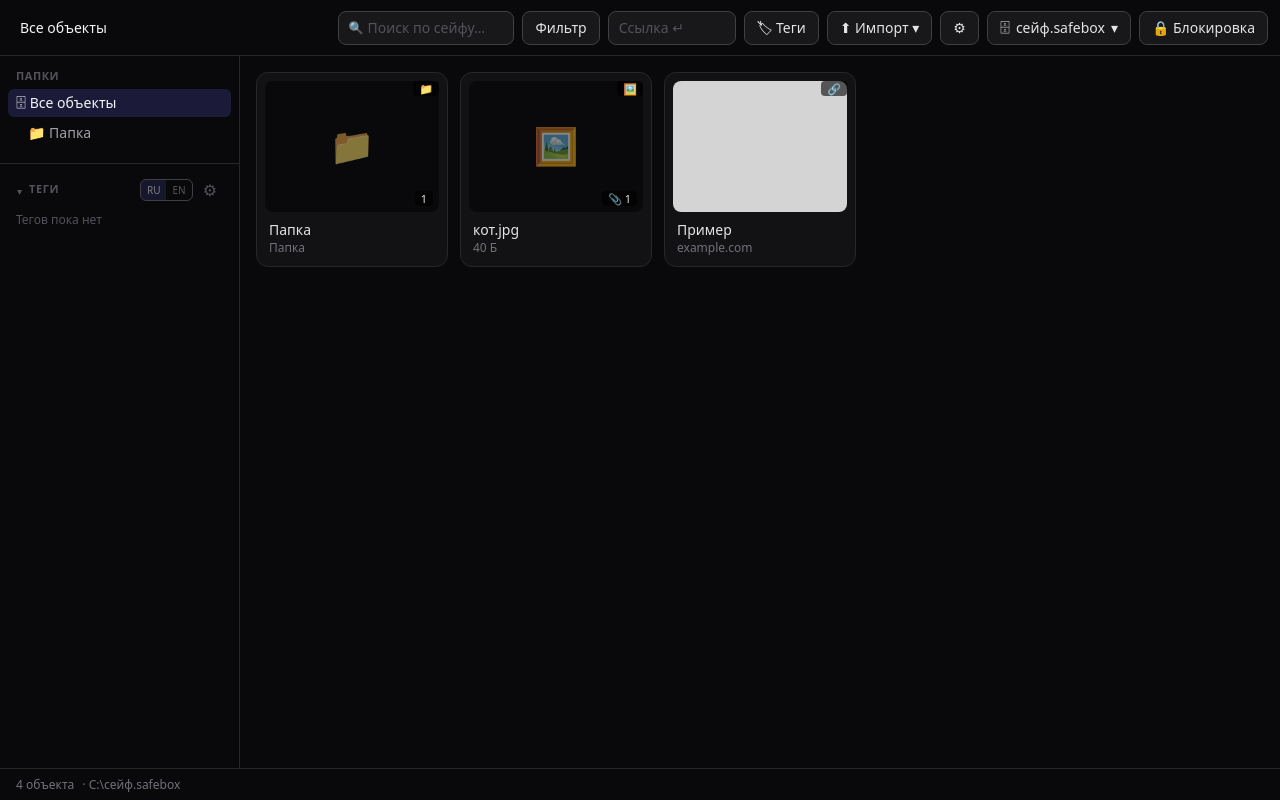
Test: поле «Ссылка» (UF-20) › не ссылка - «Это не ссылка», текст остаётся для правки, запроса нет
The image size is (1280, 800).
Check: the text "кот.jpg" is shown, box top-left (473, 220), bottom-right (519, 240)
In the field labelled "Ссылка": (672, 28) top-left (608, 10), bottom-right (736, 44), type "example.org"
Then press Enter
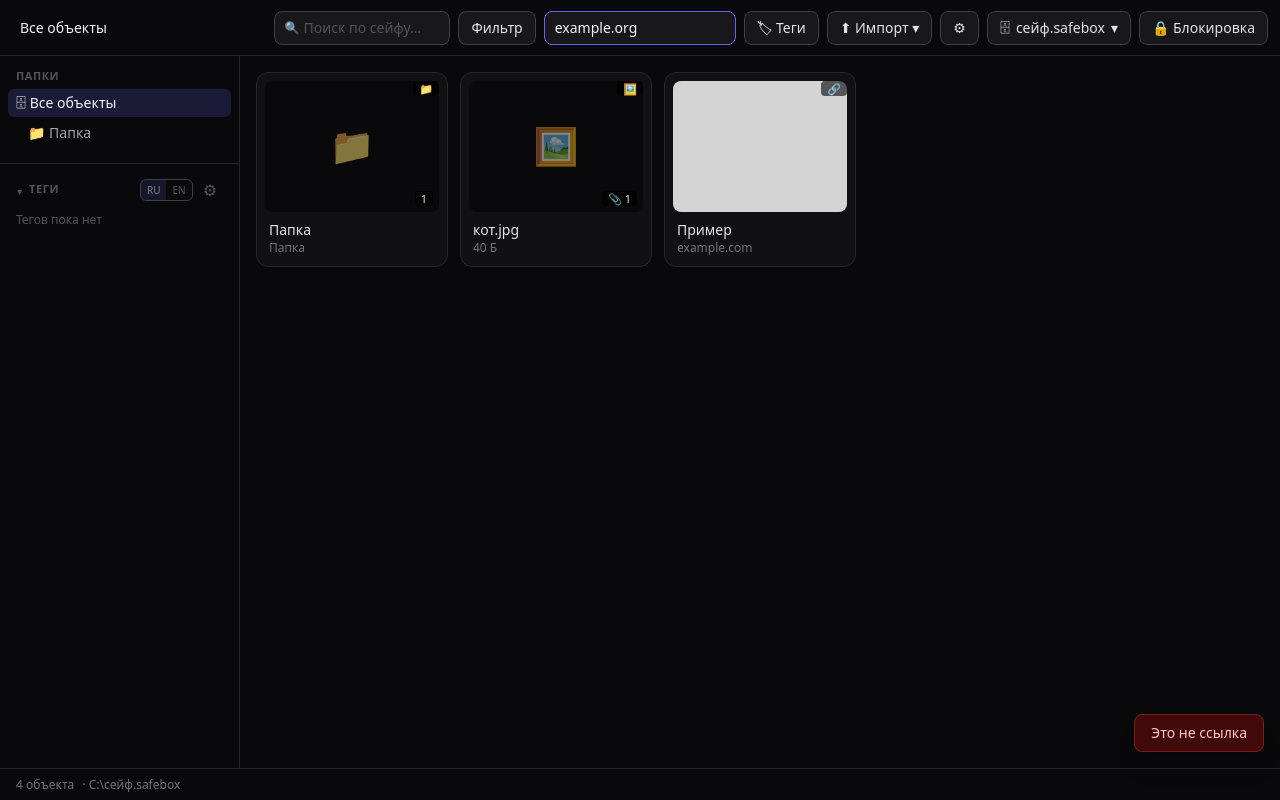
Check: the text "Это не ссылка" is shown, box top-left (1134, 714), bottom-right (1264, 752)
